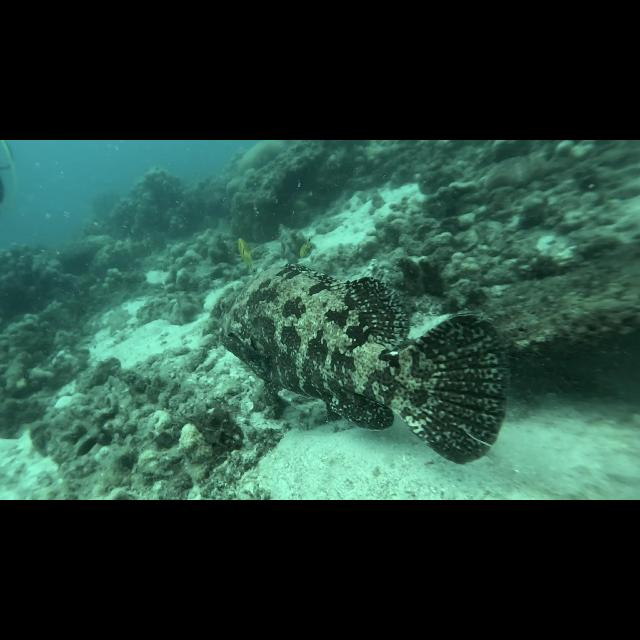Groupers: (207, 265, 516, 463)
